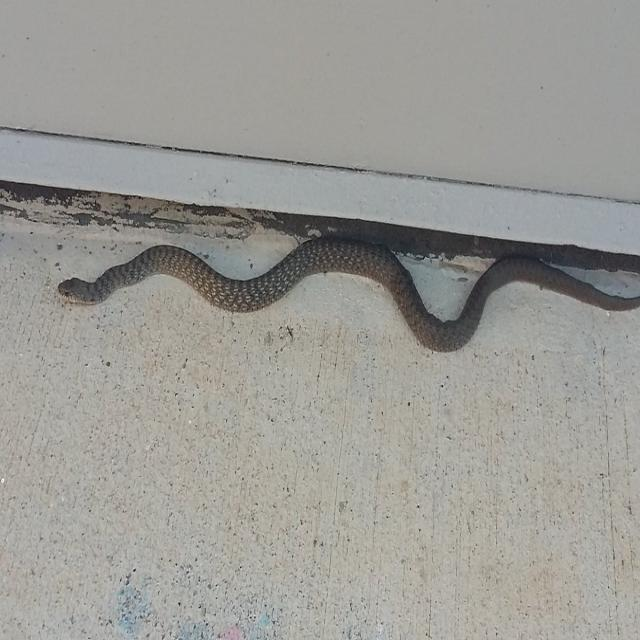Snake: (57, 229, 639, 353)
